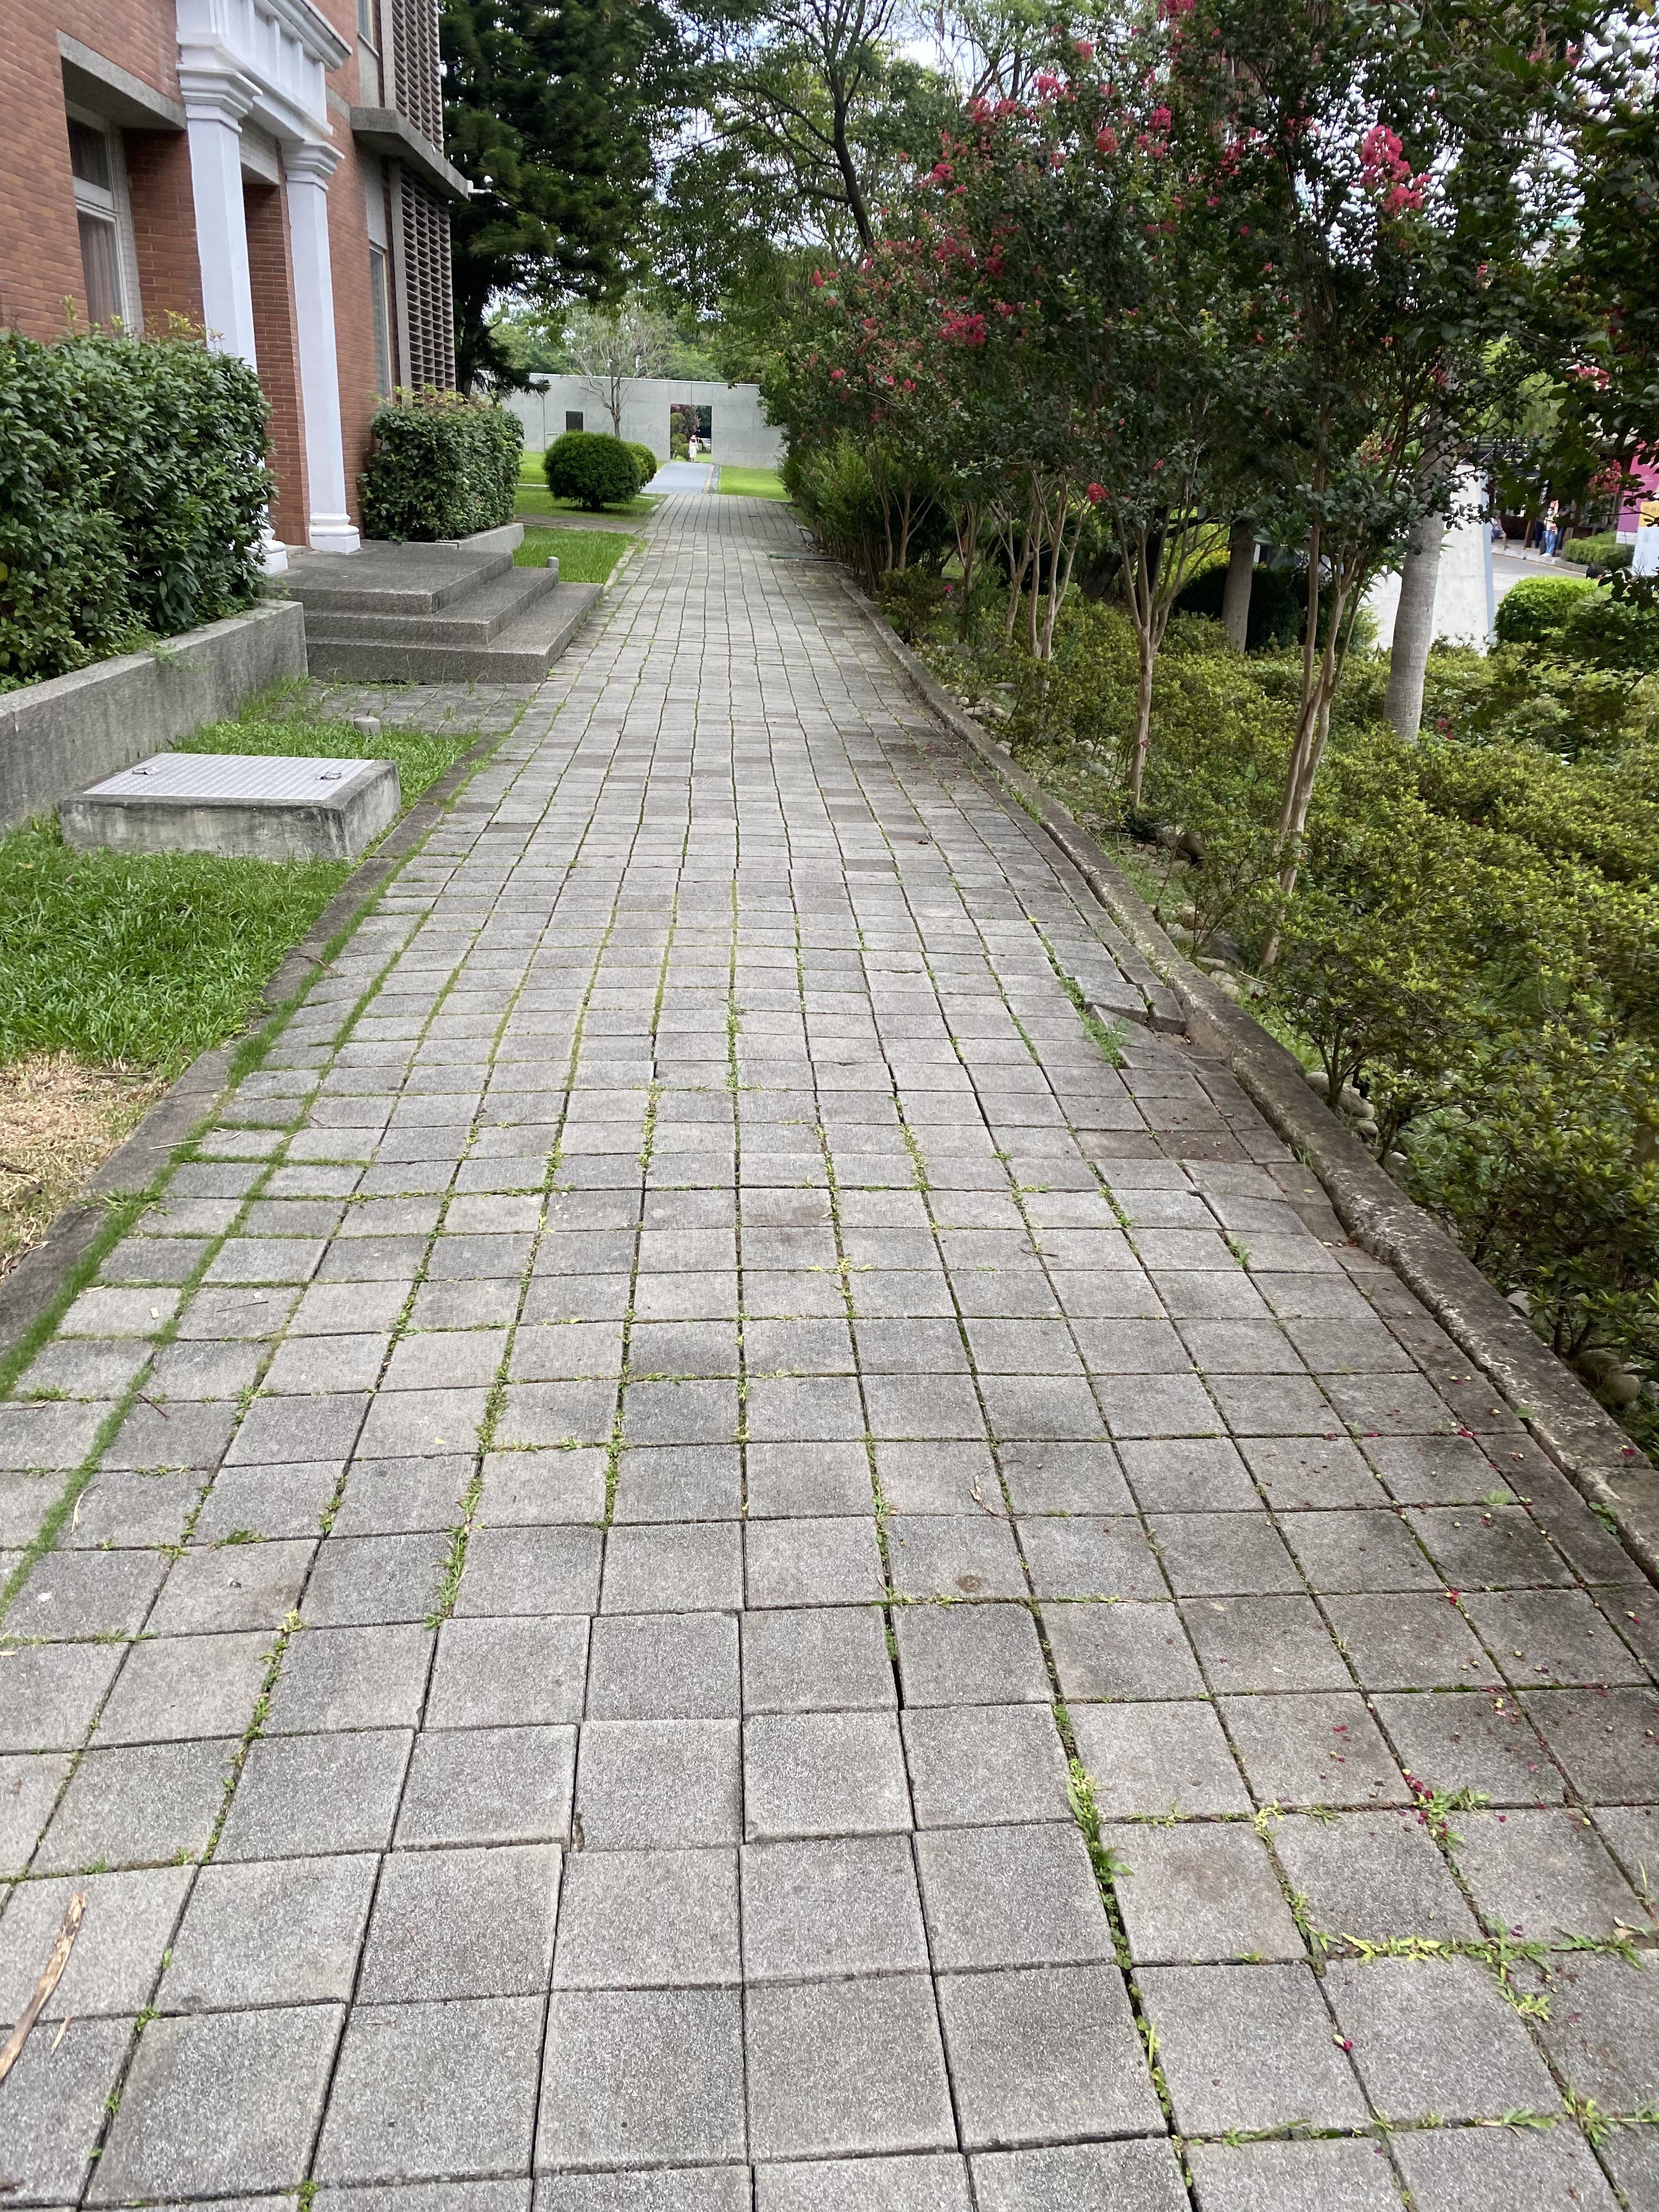0: (14, 737, 1659, 2205)
sidewalk: (563, 467, 1148, 1416)
